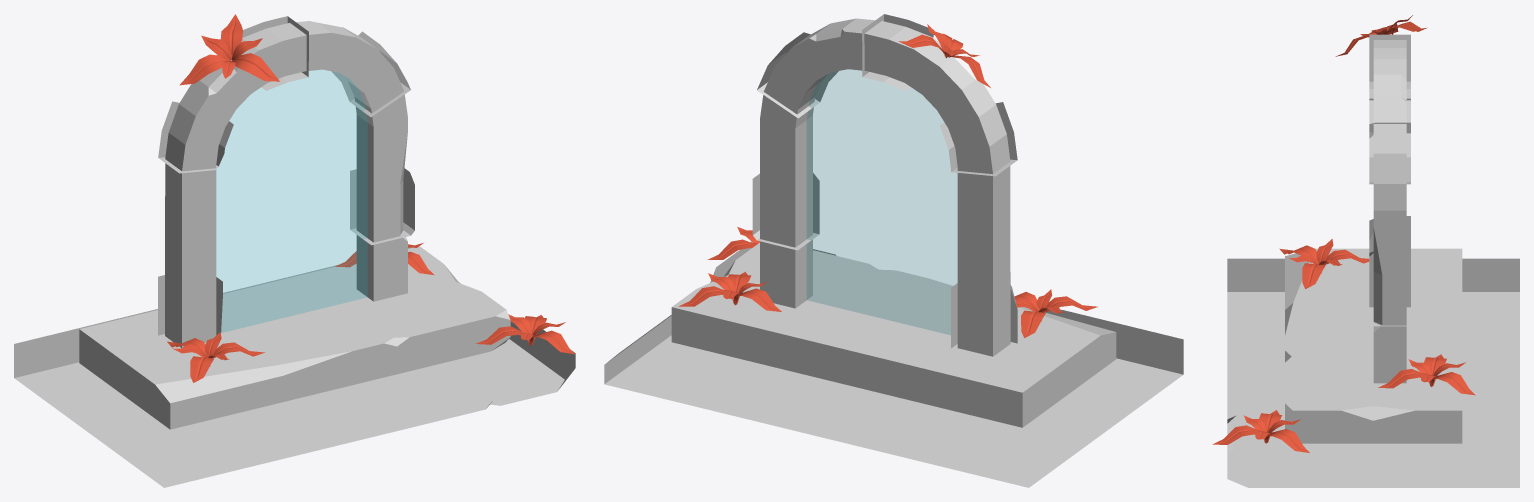
The model's file is Portal.glb.
The picture shows the model from 3 angles, left to right: view 1: azimuth 30°, elevation 25°; view 2: azimuth 150°, elevation 25°; view 3: azimuth 270°, elevation 25°; orthographic projection. The views are drawn at different scales.
Visible parts, largest first — view 1: Plane.002, Plane, Plane.006; view 2: Plane.002, Plane, Plane.006; view 3: Plane.002, Plane.006.
Part boxes in pixels (<box>): Plane.002: <box>14,16,575,487</box>; Plane: <box>216,70,367,332</box>; Plane.006: <box>167,14,575,382</box>; Plane.002: <box>604,14,1183,487</box>; Plane: <box>807,69,957,334</box>; Plane.006: <box>678,24,1097,337</box>; Plane.002: <box>1227,34,1519,487</box>; Plane.006: <box>1212,15,1475,452</box>.
Bounding box in the file's own units: 5.33 × 4.32 × 3.48.
